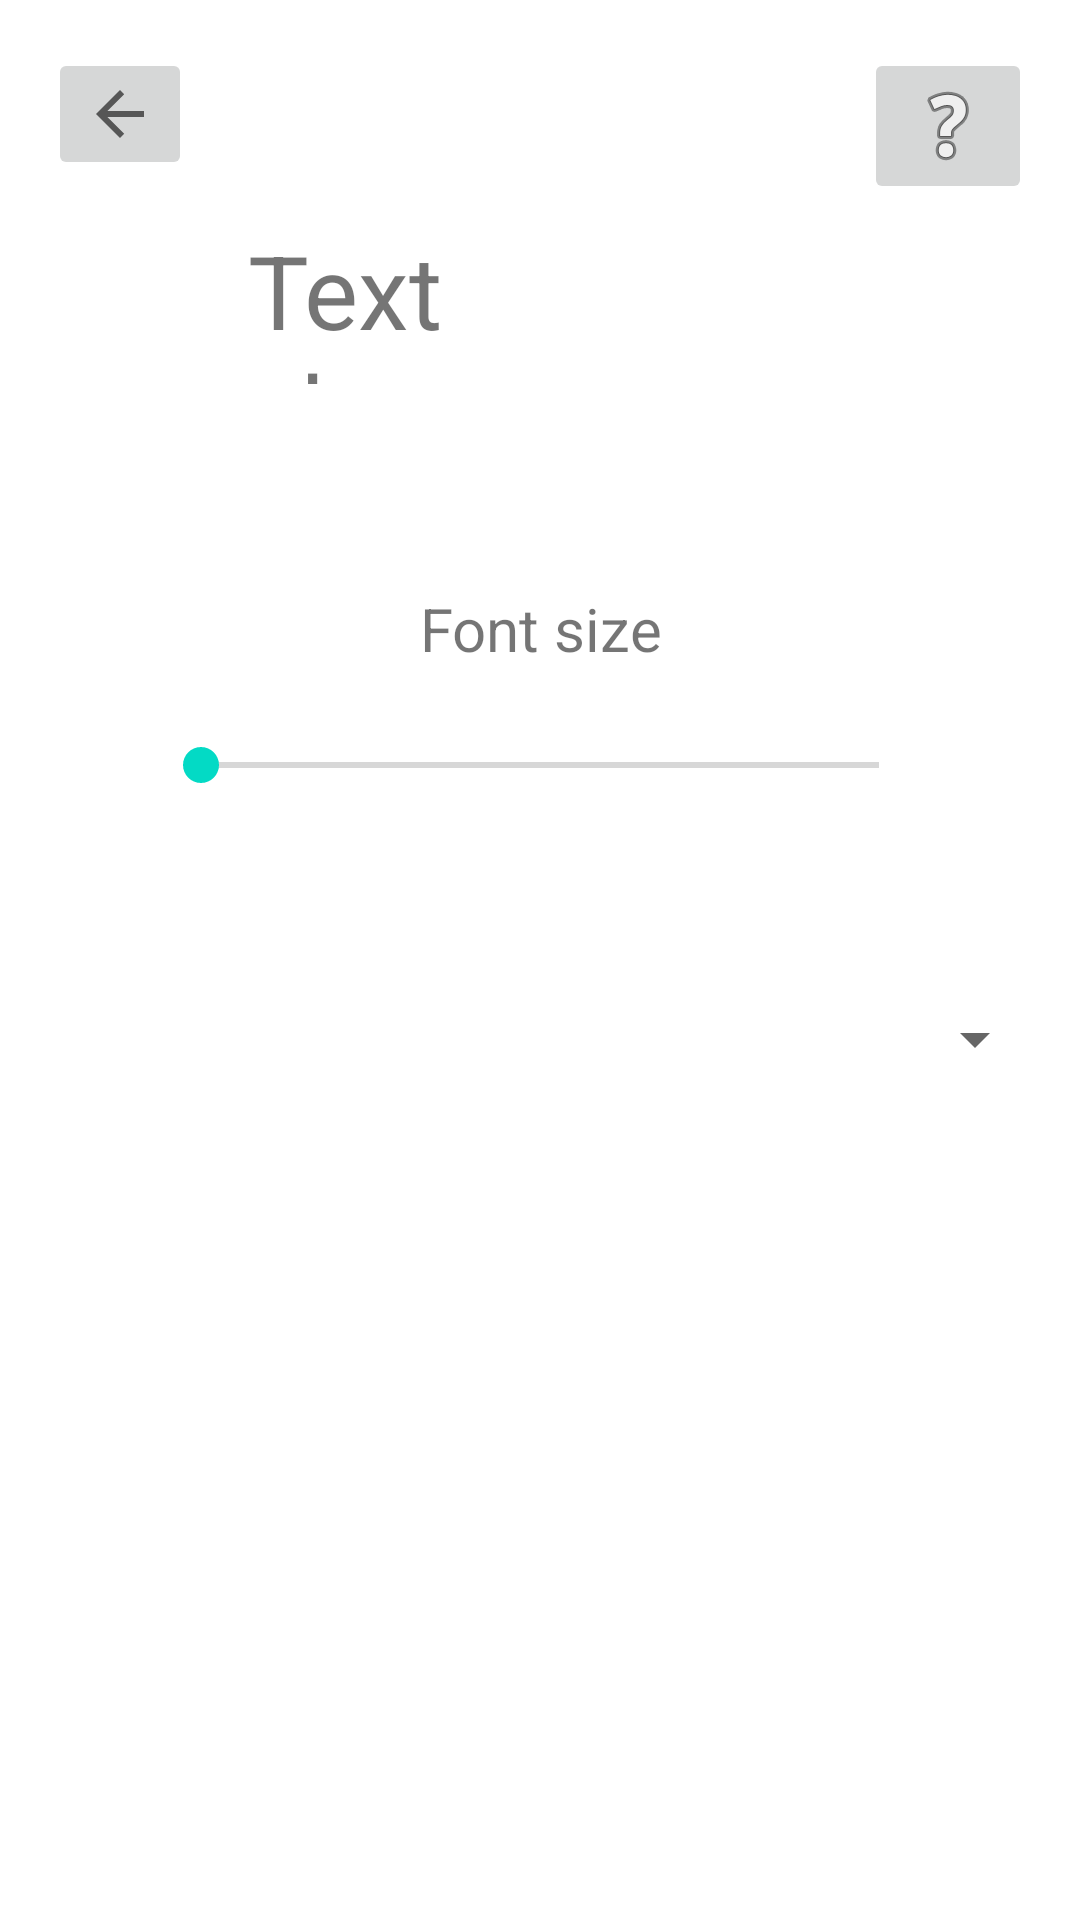

Screen size 1080*1920. Icon name, then its center in pixels as (x=x, y=y):
help: (x=948, y=126)
